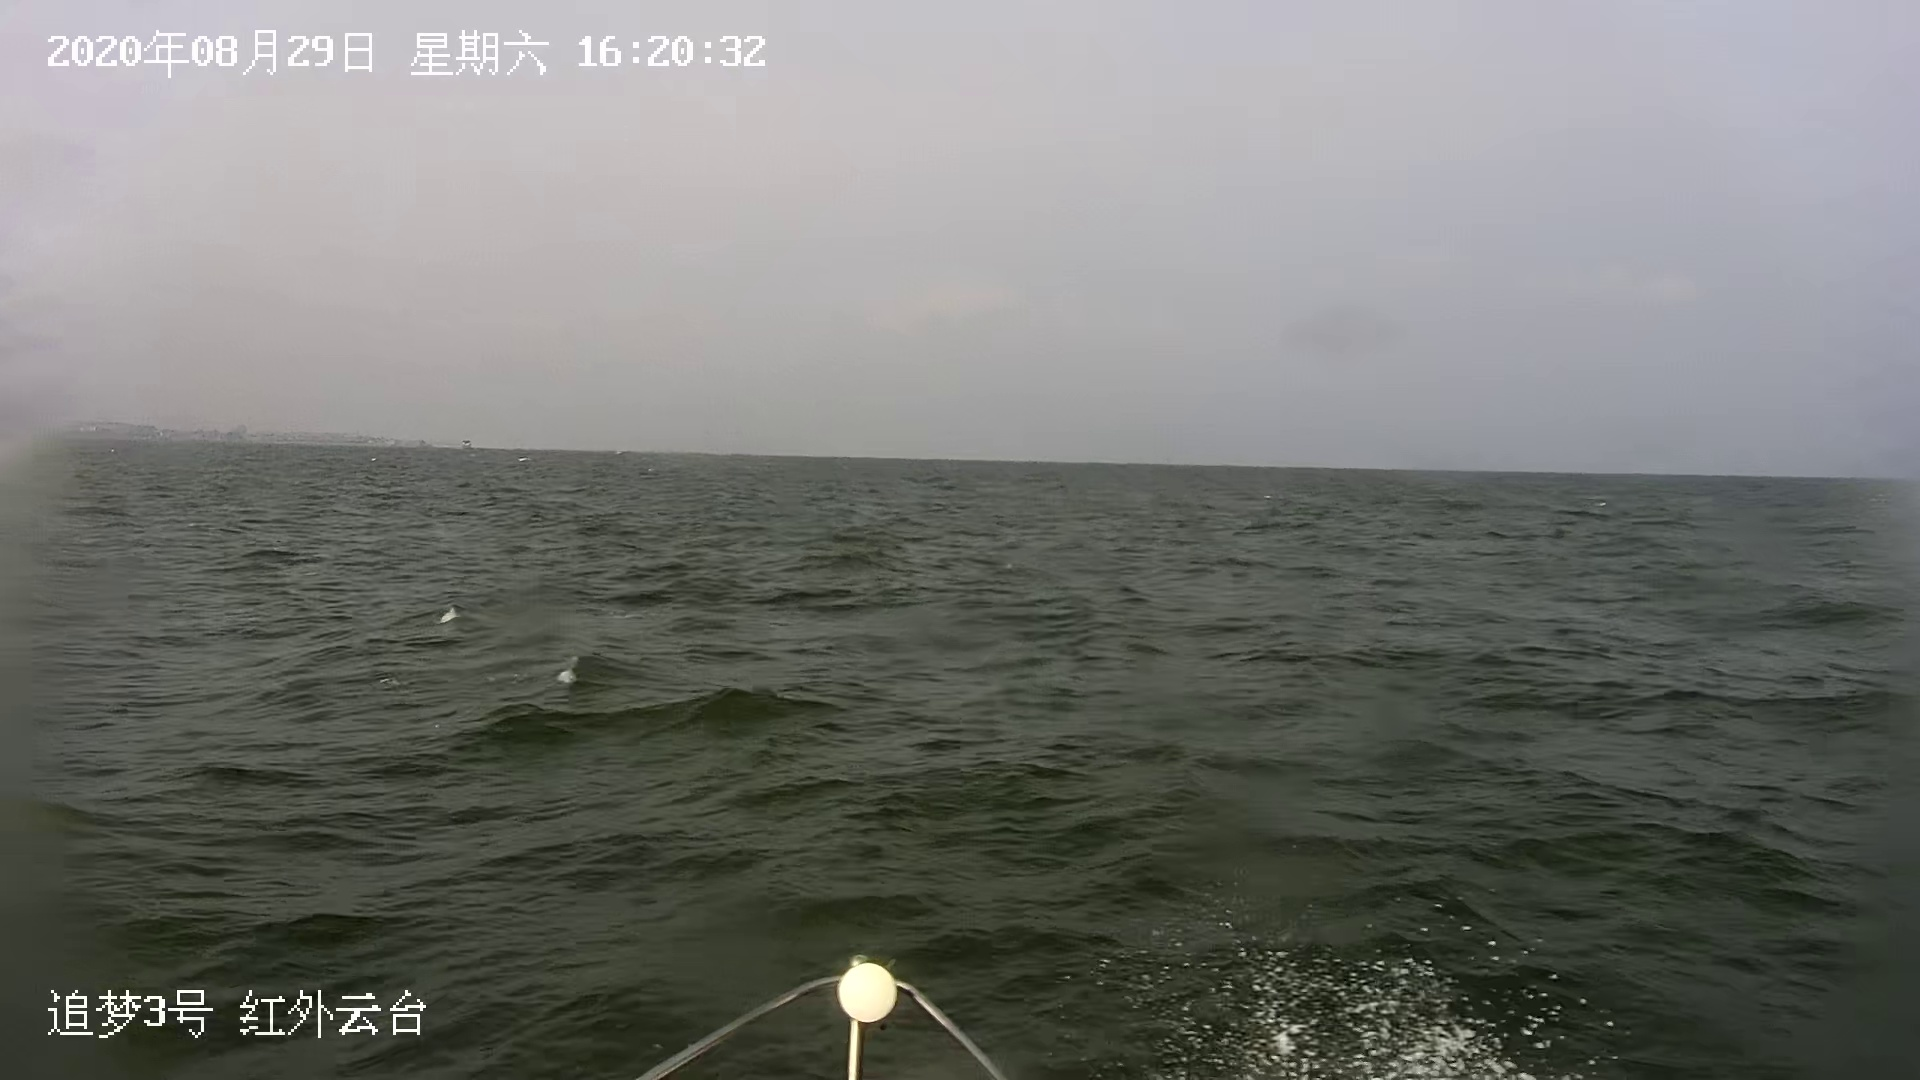coast: (32, 419, 485, 454)
